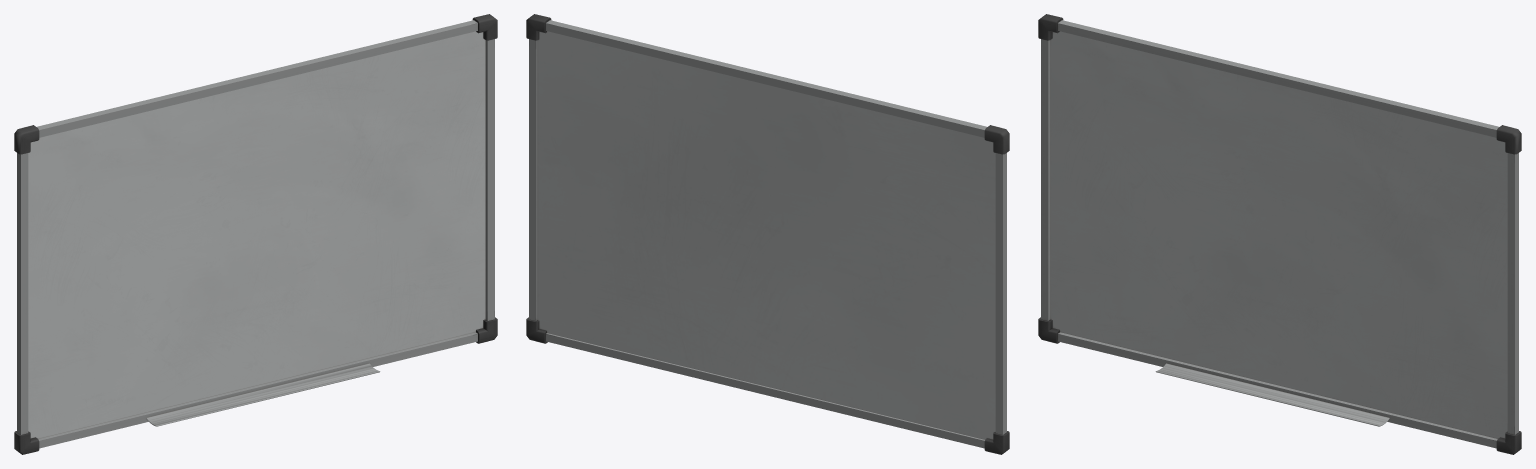
Rendered from Mesh_Whiteboard.fbx.
The picture shows the model from 3 angles, left to right: view 1: azimuth 30°, elevation 25°; view 2: azimuth 150°, elevation 25°; view 3: azimuth 330°, elevation 25°; orthographic projection.
Parts seen in each view (by area): view 1: Mesh_Whiteboard_LOD0; view 2: Mesh_Whiteboard_LOD0; view 3: Mesh_Whiteboard_LOD0.
Boxes of the visible parts, box(x1,y1,x2,y2) form: Mesh_Whiteboard_LOD0: box(14, 14, 497, 454); Mesh_Whiteboard_LOD0: box(526, 14, 1009, 454); Mesh_Whiteboard_LOD0: box(1038, 14, 1521, 454).
Size of what is drawn, in the model's own units: 1.67 by 1.08 by 0.096.
